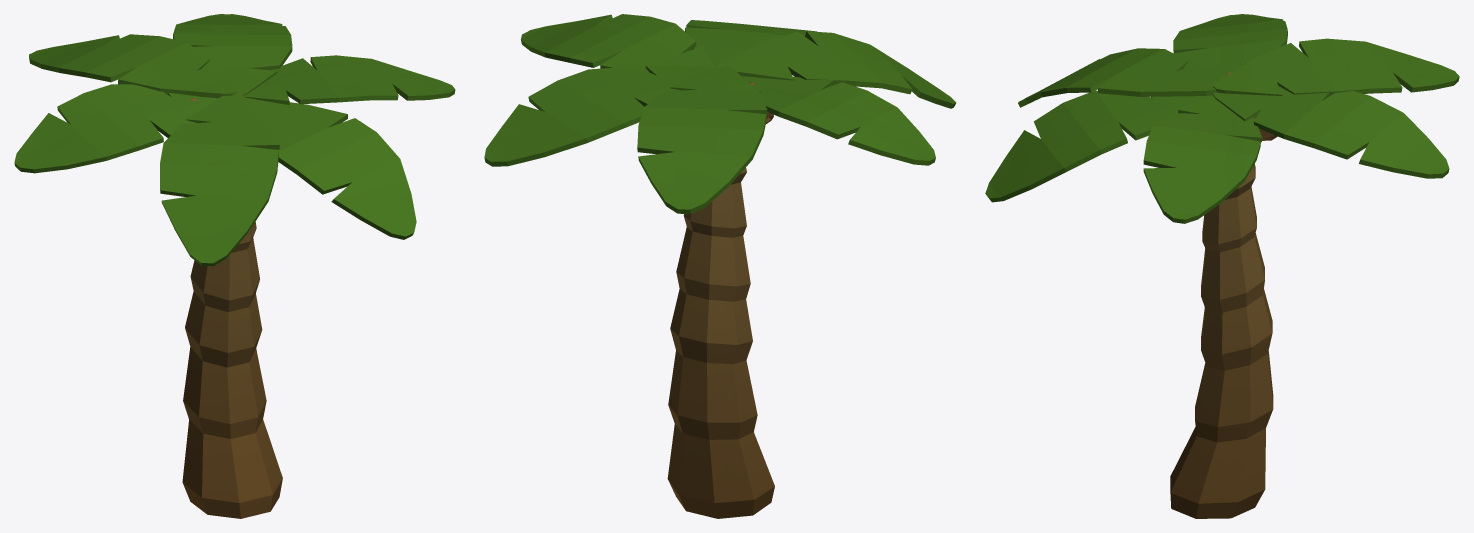
File: SM_PalmTree2.fbx
The picture shows the model from 3 angles, left to right: view 1: azimuth 30°, elevation 25°; view 2: azimuth 150°, elevation 25°; view 3: azimuth 270°, elevation 25°; orthographic projection. The views are drawn at different scales.
Parts seen in each view (by area): view 1: SM_PalmTree2; view 2: SM_PalmTree2; view 3: SM_PalmTree2.
Boxes of the visible parts, x1=… form: SM_PalmTree2: x1=14, y1=14, x2=455, y2=518; SM_PalmTree2: x1=484, y1=14, x2=956, y2=518; SM_PalmTree2: x1=985, y1=14, x2=1459, y2=518.
Size of the model in its own units: 930 by 894 by 916.
